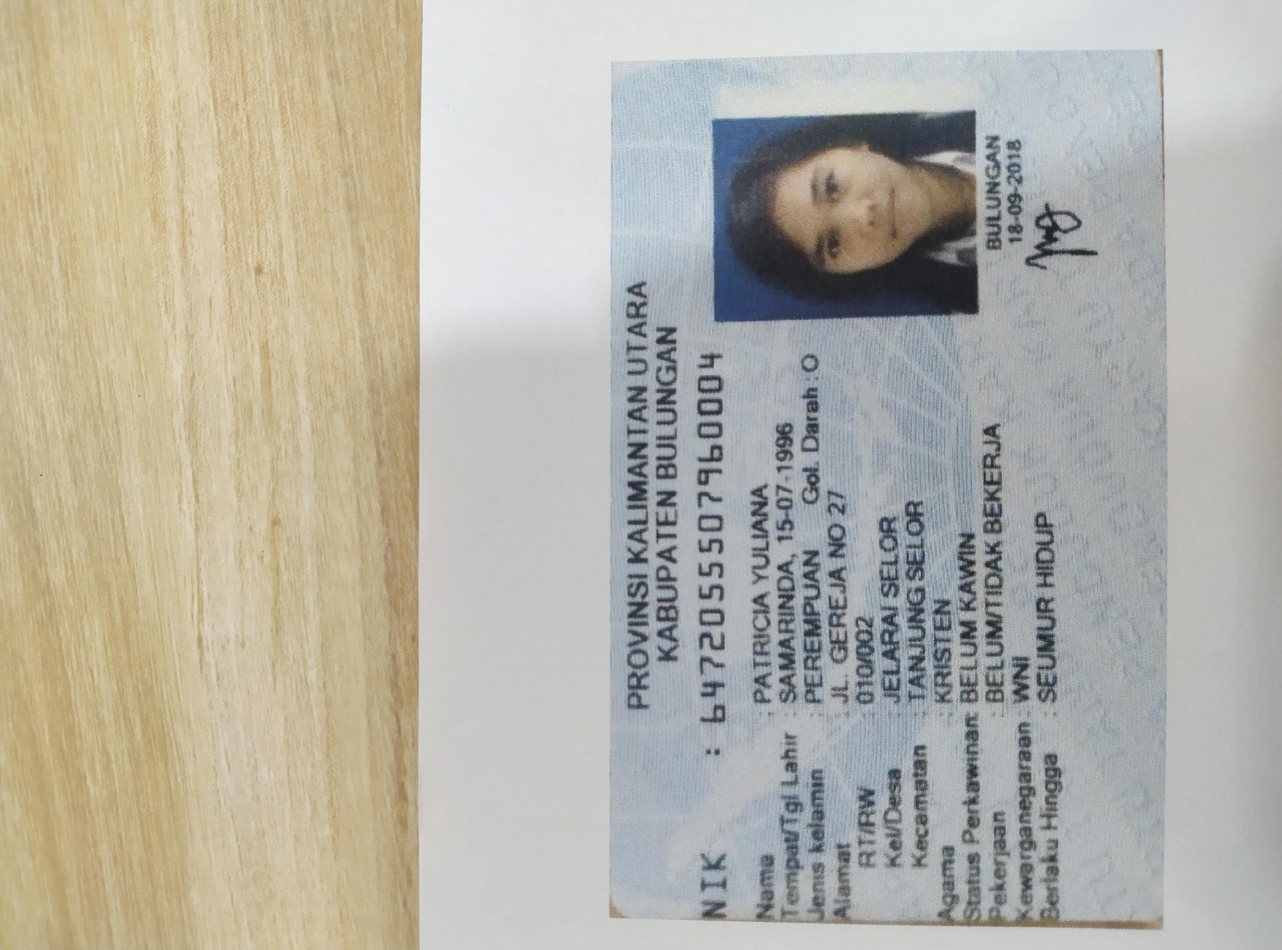ID-card: (34, 450, 1210, 859)
